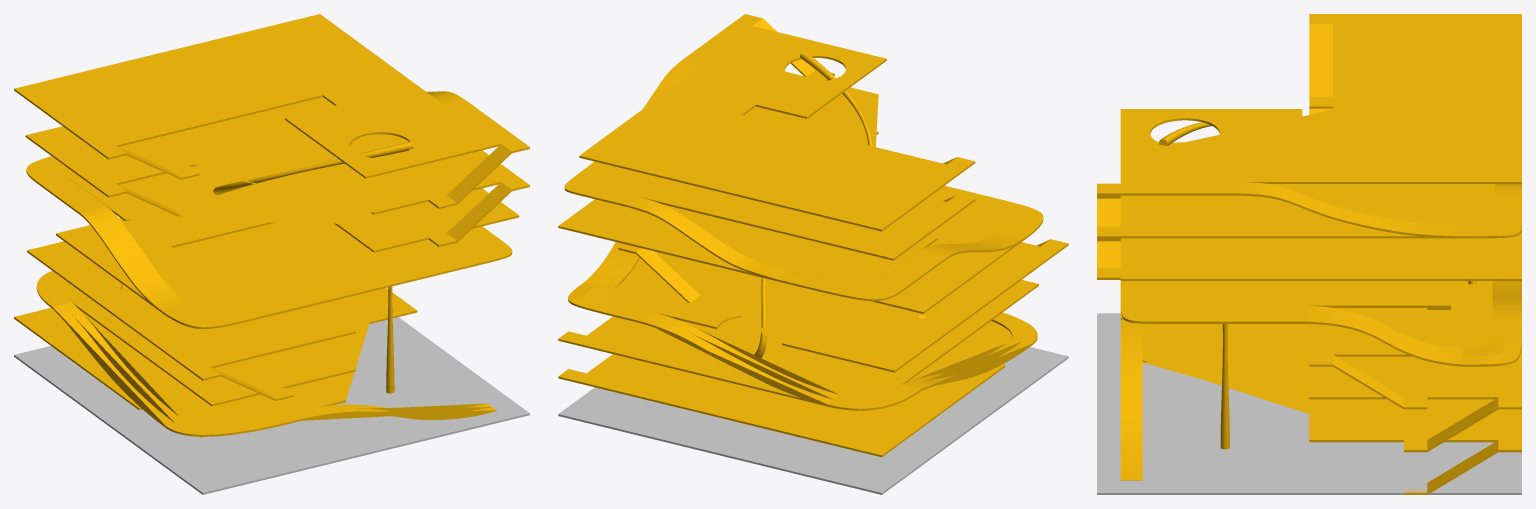
The picture shows the model from 3 angles, left to right: view 1: azimuth 30°, elevation 25°; view 2: azimuth 150°, elevation 25°; view 3: azimuth 270°, elevation 25°; orthographic projection. The views are drawn at different scales.
Visible parts, largest first — view 1: LEVEL, FLOOR, rail_tracks, rail_tracks2, STAIRS, firepole; view 2: LEVEL, FLOOR, rail_tracks, rail_tracks2, STAIRS, firepole; view 3: LEVEL, FLOOR, rail_tracks, STAIRS, rail_tracks2, firepole.
Part boxes in pixels (x1,y1,x2,y2): LEVEL: (14, 14, 519, 437); FLOOR: (14, 317, 529, 494); rail_tracks: (26, 91, 512, 436); rail_tracks2: (41, 94, 491, 429); STAIRS: (98, 139, 529, 400); firepole: (120, 141, 413, 393); LEVEL: (558, 21, 1058, 457); FLOOR: (558, 347, 1068, 494); rail_tracks: (564, 59, 1043, 410); rail_tracks2: (581, 62, 1024, 403); STAIRS: (558, 14, 1068, 382); firepole: (754, 51, 925, 358); LEVEL: (1120, 14, 1521, 442); FLOOR: (1097, 313, 1521, 494); rail_tracks: (1120, 142, 1521, 480); STAIRS: (1097, 14, 1521, 494); rail_tracks2: (1131, 182, 1508, 480); firepole: (1158, 122, 1476, 449).
Size of the model in its own units: 90 by 72.28 by 90.
